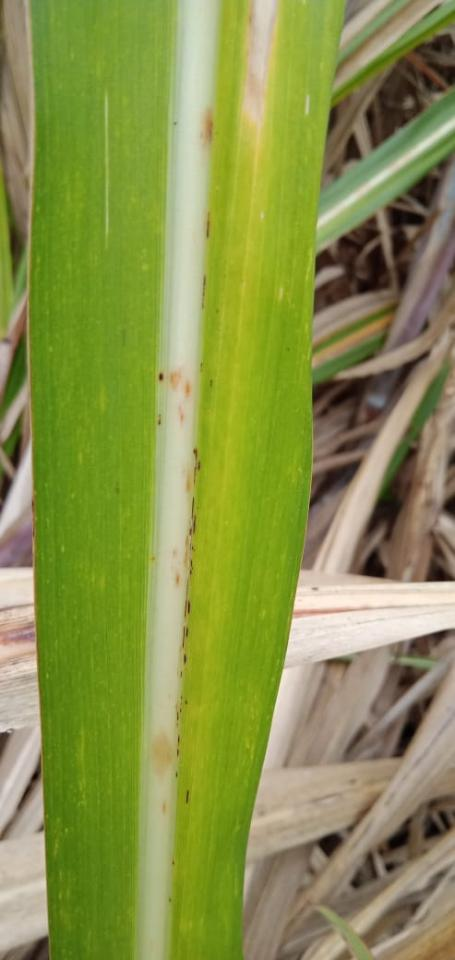RedRot: (150, 728, 175, 788), (169, 364, 185, 393), (182, 532, 189, 570), (184, 378, 192, 400), (184, 468, 191, 493), (178, 405, 185, 428), (173, 573, 181, 588), (161, 800, 167, 816), (170, 547, 178, 558)
Rust: (201, 106, 214, 149), (192, 447, 201, 488), (183, 579, 189, 619), (201, 273, 207, 311), (204, 209, 211, 240), (191, 494, 195, 518), (189, 558, 194, 577), (182, 626, 186, 649), (193, 513, 197, 535), (158, 371, 165, 383), (157, 413, 163, 426), (189, 542, 196, 553), (186, 787, 190, 805), (187, 598, 191, 615), (183, 652, 188, 665), (199, 361, 204, 373), (176, 711, 179, 728), (171, 858, 177, 866), (177, 734, 181, 746), (179, 694, 183, 706), (176, 748, 180, 759), (189, 526, 193, 536), (186, 627, 189, 639), (168, 895, 172, 903), (210, 378, 213, 388), (175, 770, 178, 779), (180, 671, 183, 679), (179, 708, 182, 714), (185, 701, 188, 705)
Yellow: (174, 82, 269, 959)
